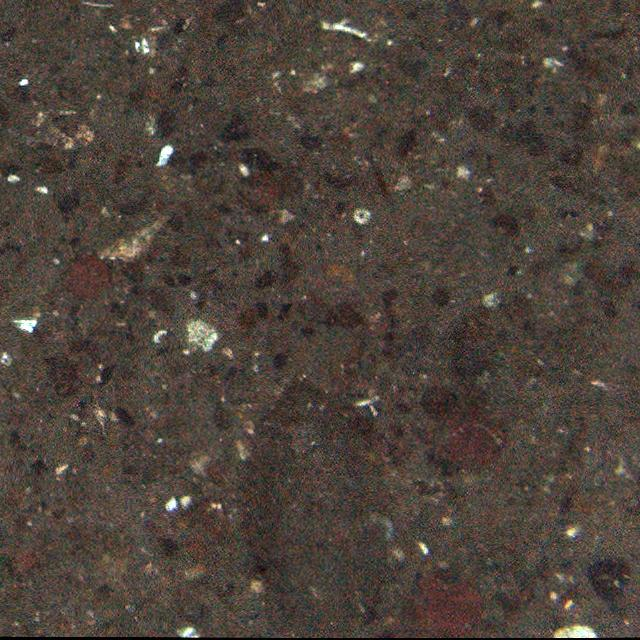flatfish: (243, 375, 384, 638)
